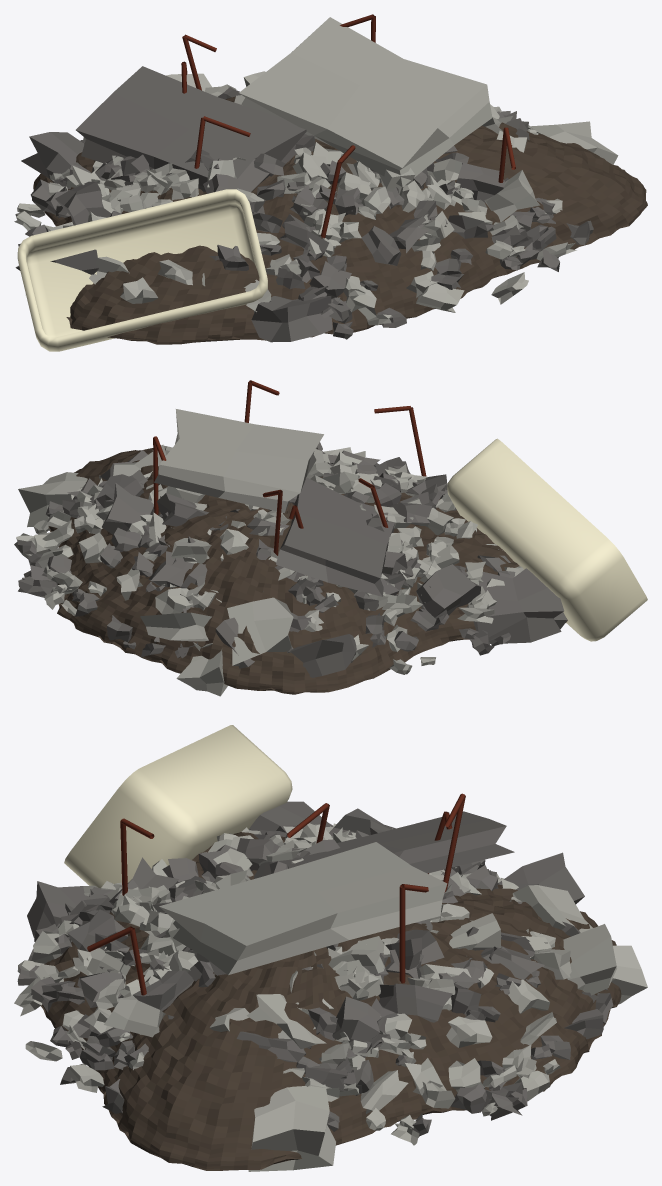
Rendered from rubble.glb.
The picture shows the model from 3 angles, top to bottom: view 1: azimuth 30°, elevation 25°; view 2: azimuth 150°, elevation 25°; view 3: azimuth 270°, elevation 25°; orthographic projection. The views are drawn at different scales.
Parts seen in each view (by area): view 1: fill, slab, tub, slab_far, lump_15, rebar, lump_16, lump_2, lump_26, lump_11, lump_22, grit_322 (+23 smaller); view 2: fill, tub, slab, slab_far, lump_13, lump_29, rebar, lump_26, lump_16, lump_11, lump_19, lump_18 (+20 smaller); view 3: fill, slab, tub, slab_far, lump_11, rebar, lump_19, lump_18, lump_29, lump_15, lump_16, lump_17 (+32 smaller).
Boxes of the visible parts, x1,y1,x2,y2 form: fill: (33,96,647,344); slab: (239,17,492,187); tub: (17,189,267,351); slab_far: (76,66,306,192); lump_15: (251,296,332,342); rebar: (181,14,515,238); lump_16: (21,132,84,182); lump_2: (484,170,540,221); lump_26: (55,181,111,225); lump_11: (528,121,618,164); lump_22: (456,162,504,202); grit_322: (361,226,401,265); fill: (48,448,567,694); tub: (447,438,647,641); slab: (154,409,323,512); slab_far: (276,477,394,596); lump_13: (473,568,564,643); lump_29: (227,597,293,665); rebar: (153,380,426,555); lump_26: (416,564,480,617); lump_16: (291,634,356,677); lump_11: (18,472,87,527); lump_19: (140,612,211,641); lump_18: (102,483,154,534); fill: (41,832,621,1170); slab: (159,842,447,975); tub: (64,725,292,887); slab_far: (254,811,514,878); lump_11: (248,1084,335,1171); rebar: (87,793,465,995); lump_19: (563,924,616,995); lump_18: (378,983,452,1022); lump_29: (512,885,592,932); lump_15: (27,881,88,938); lump_16: (498,852,584,904); lump_17: (246,994,326,1048).
Size of the model in its own units: 4.59 by 1.37 by 3.52.
